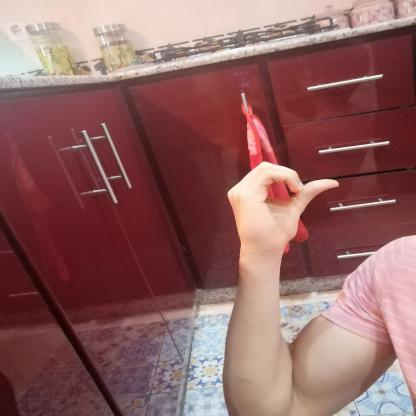WAW: (214, 153, 350, 262)
